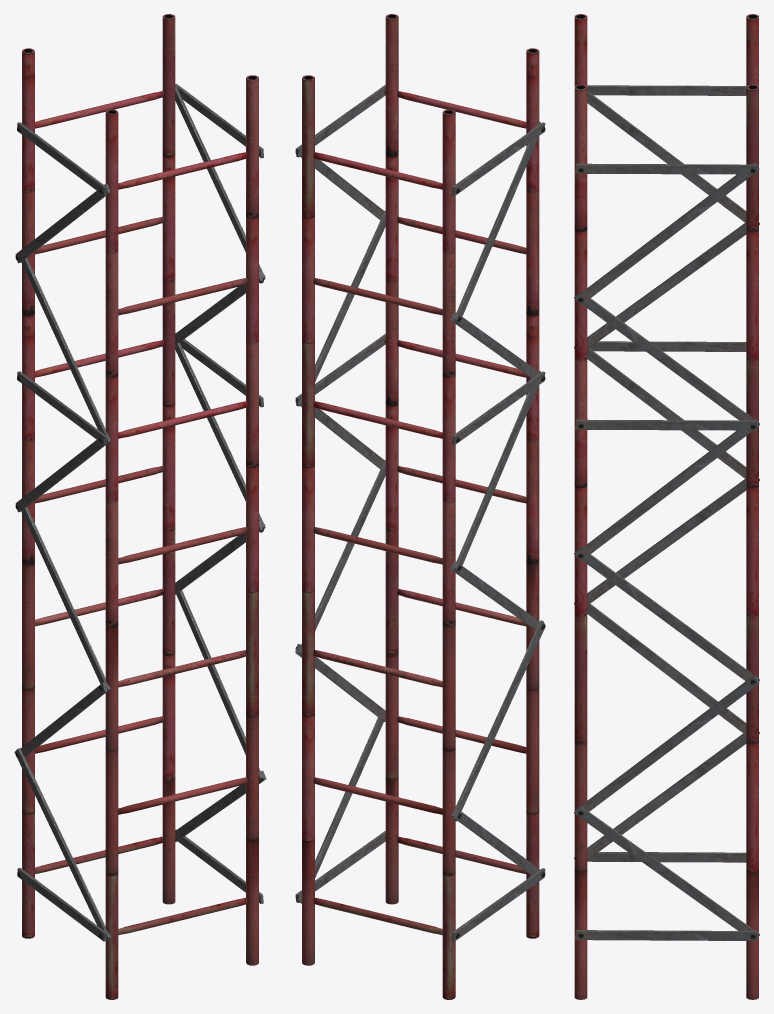
Rendered from struts-1.FBX.
The picture shows the model from 3 angles, left to right: view 1: azimuth 30°, elevation 25°; view 2: azimuth 150°, elevation 25°; view 3: azimuth 270°, elevation 25°; orthographic projection. The views are drawn at different scales.
Visible parts, largest first — view 1: struts-1_LOD0; view 2: struts-1_LOD0; view 3: struts-1_LOD0.
Boxes of the visible parts, x1=… form: struts-1_LOD0: x1=14, y1=14, x2=266, y2=999; struts-1_LOD0: x1=295, y1=14, x2=545, y2=999; struts-1_LOD0: x1=574, y1=14, x2=759, y2=999.
Size of what is drawn, in the model's own units: 56 by 290 by 53.65.
